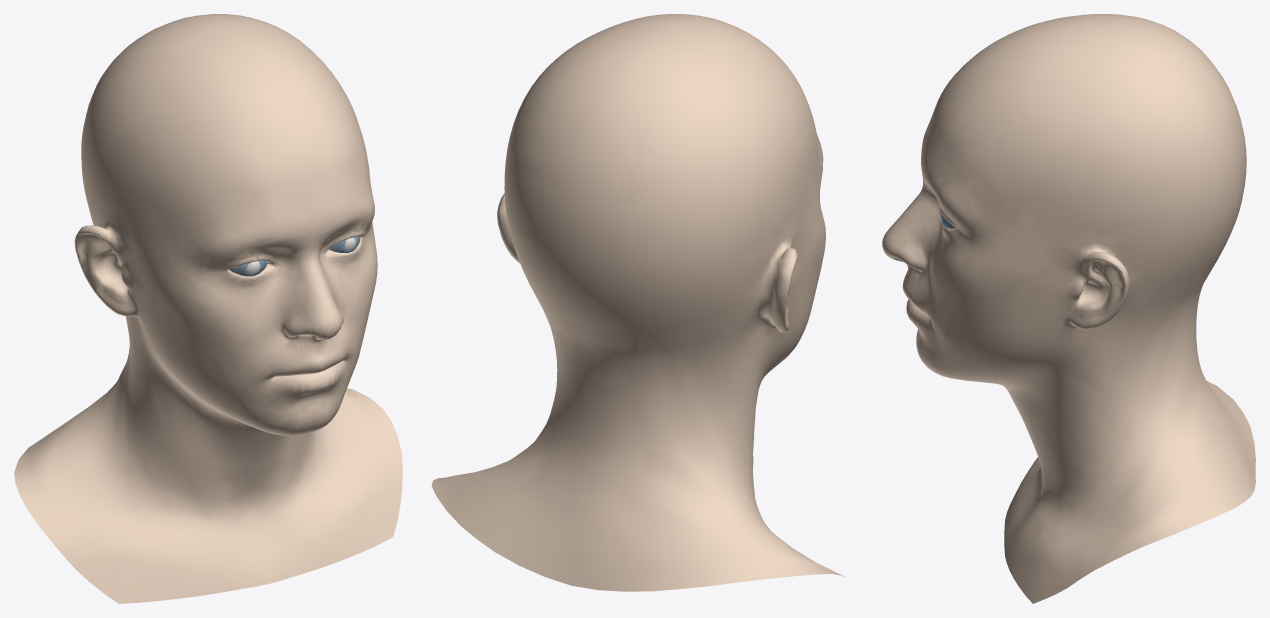
The model's file is head_ict.glb.
The picture shows the model from 3 angles, left to right: view 1: azimuth 30°, elevation 25°; view 2: azimuth 150°, elevation 25°; view 3: azimuth 270°, elevation 25°; orthographic projection. The views are drawn at different scales.
Visible parts, largest first — view 1: head; view 2: head; view 3: head.
Boxes of the visible parts, x1,y1,x2,y2 form: head: [14, 14, 402, 603]; head: [431, 14, 844, 591]; head: [882, 14, 1255, 603].
Size of the model in its own units: 24.83 by 33.81 by 22.32.
